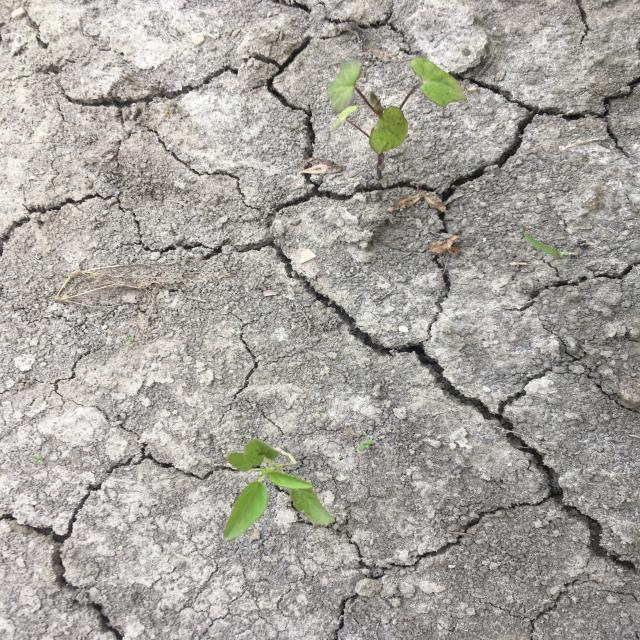MorningGlory: (324, 55, 469, 156)
PricklySida: (220, 438, 337, 542)
